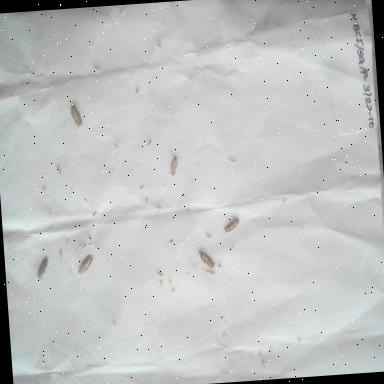pbw: (195, 246, 218, 272), (66, 100, 86, 128), (165, 149, 182, 181), (75, 250, 95, 277), (220, 214, 241, 237), (33, 252, 50, 280)
